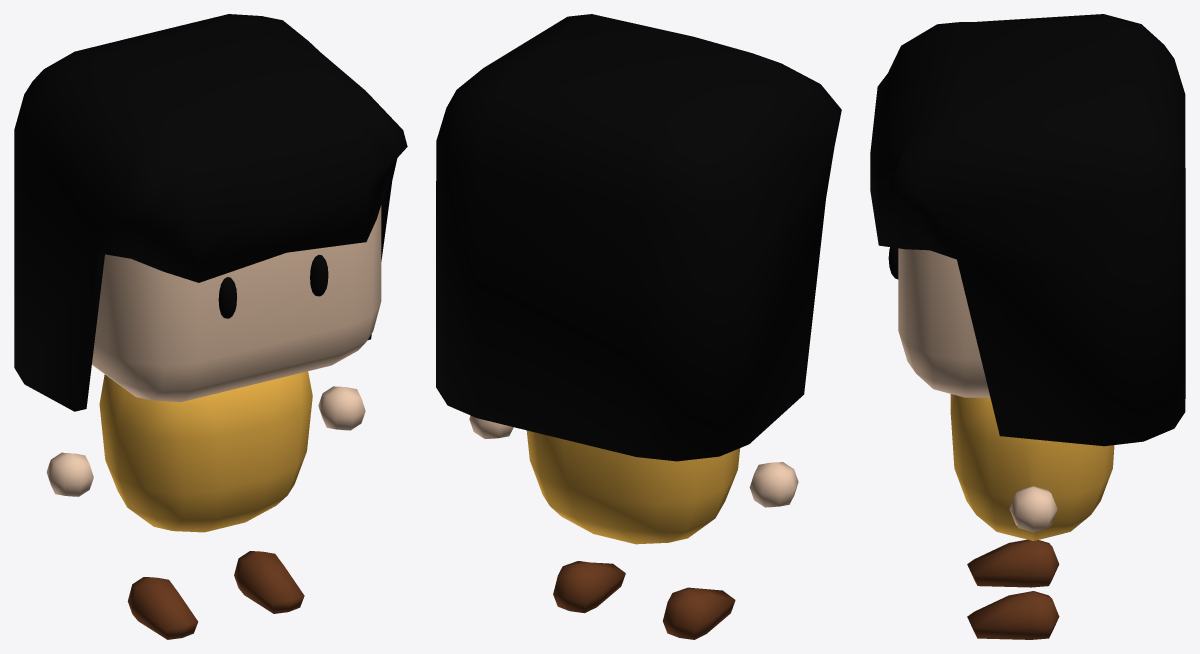
Rendered from npc2.glb.
3 renders of one model, left to right at view 1: azimuth 30°, elevation 25°; view 2: azimuth 150°, elevation 25°; view 3: azimuth 270°, elevation 25°, orthographic. The views are drawn at different scales.
Visible parts, largest first — view 1: npc1.001; view 2: npc1.001; view 3: npc1.001.
Part boxes in pixels (x1=…): npc1.001: x1=14, y1=14, x2=407, y2=639; npc1.001: x1=436, y1=14, x2=841, y2=639; npc1.001: x1=870, y1=14, x2=1185, y2=639.
Size of the model in its own units: 3.44 by 5.68 by 2.96.
